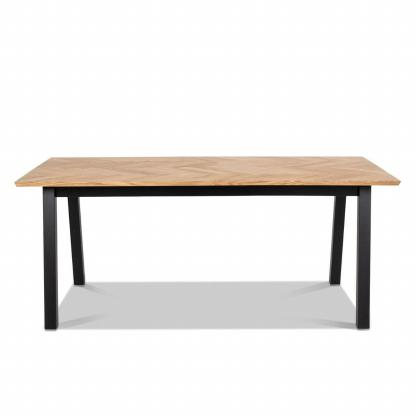Table: (11, 141, 400, 347)
